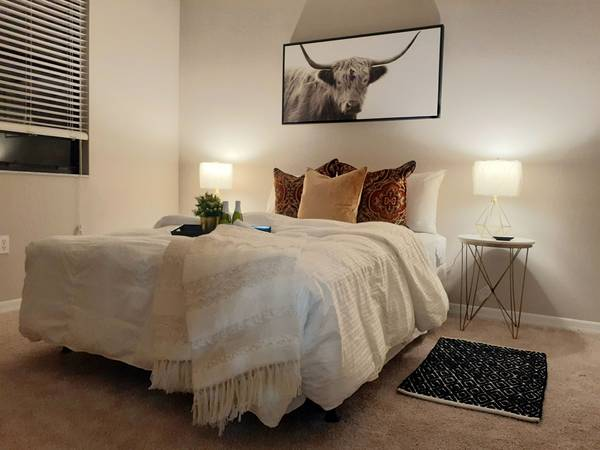bed: (30, 213, 444, 425)
frame: (282, 26, 445, 124)
lamp: (468, 161, 524, 241)
night stand: (459, 234, 535, 340)
